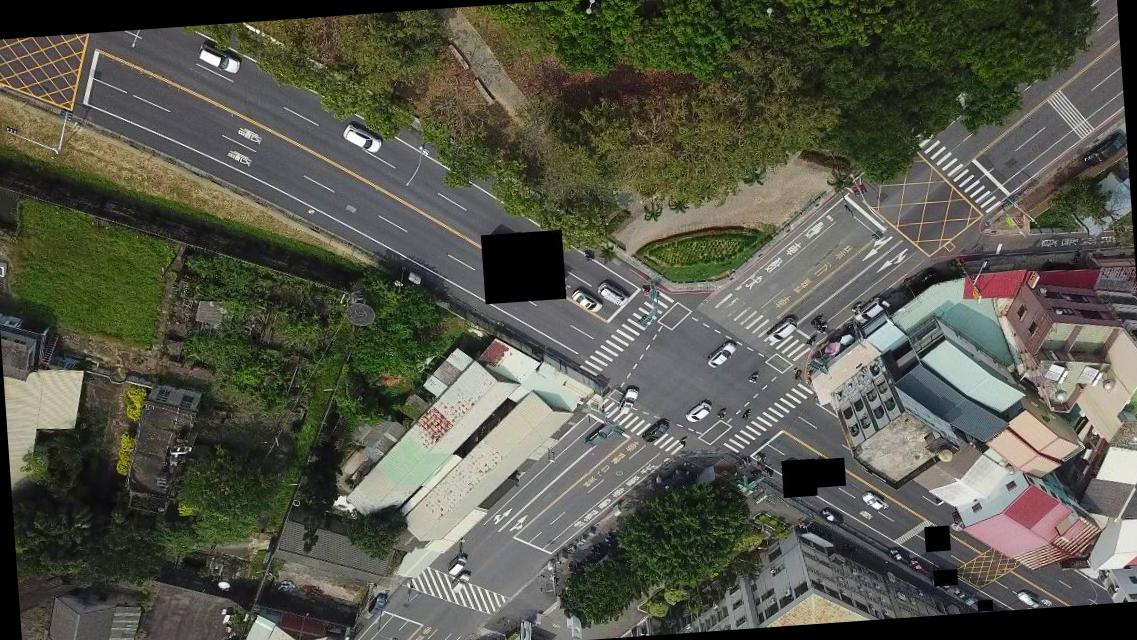vehicle: (196, 40, 241, 76), (340, 120, 384, 156), (1082, 134, 1126, 168), (853, 297, 887, 325), (570, 287, 602, 316), (596, 280, 629, 307), (705, 341, 738, 368), (766, 316, 797, 344), (641, 419, 670, 445), (584, 423, 614, 447), (683, 400, 711, 423), (618, 386, 638, 414), (448, 570, 471, 594), (888, 546, 910, 566), (910, 558, 932, 578), (369, 594, 387, 616), (1015, 590, 1037, 608), (861, 492, 884, 509), (821, 508, 842, 526), (446, 558, 466, 575)
